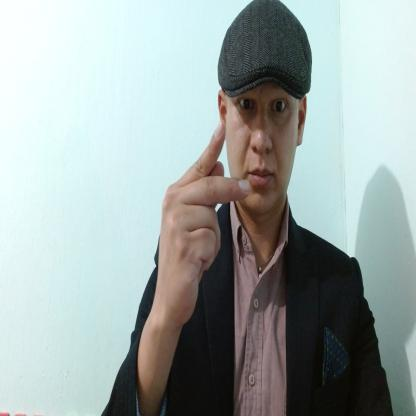P: (155, 116, 253, 323)
